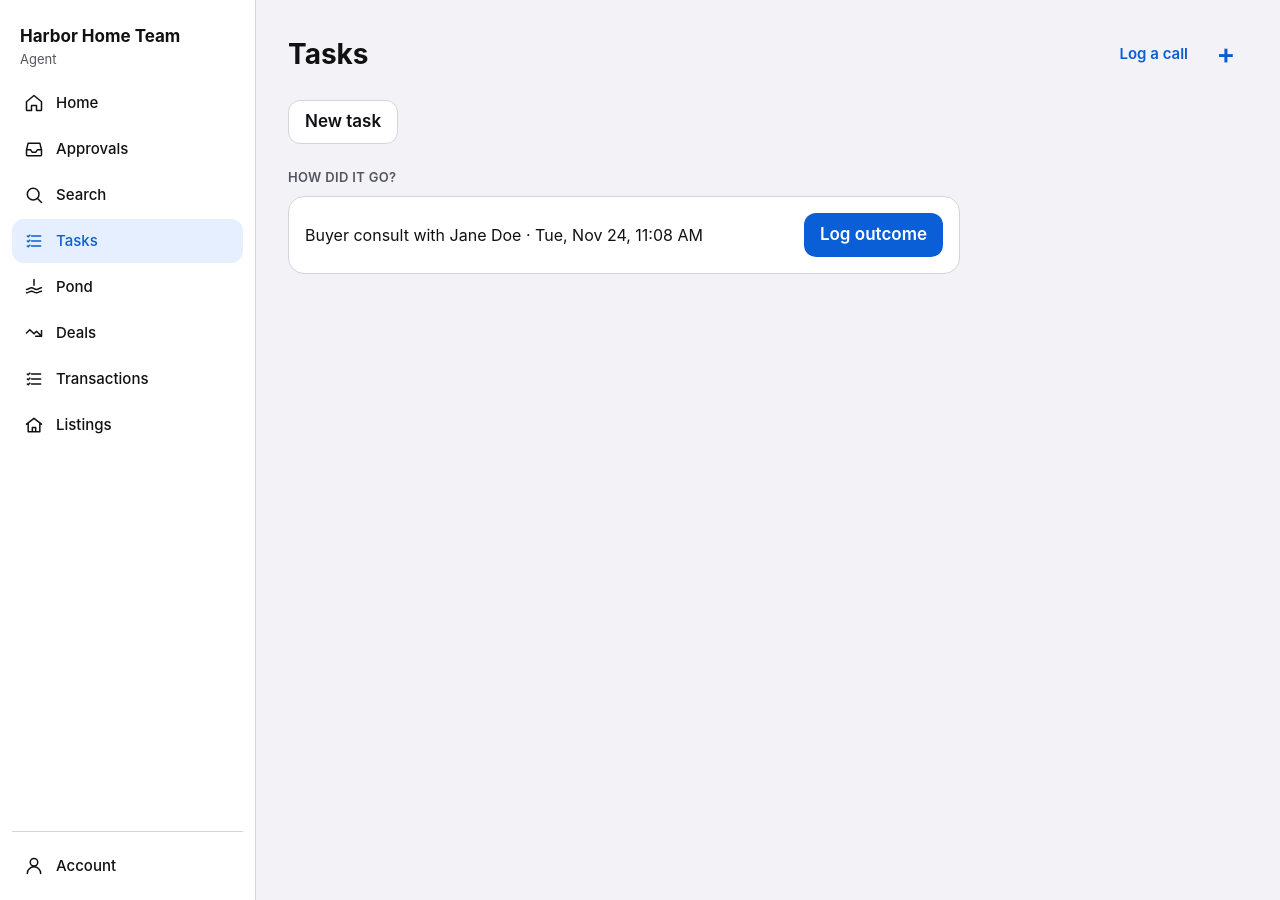
Tasks › an appointment awaiting its outcome is logged in two taps from Tasks (open, then the outcome chip)
Click the button "Log outcome".
click(873, 234)  # box [804,212,943,256]
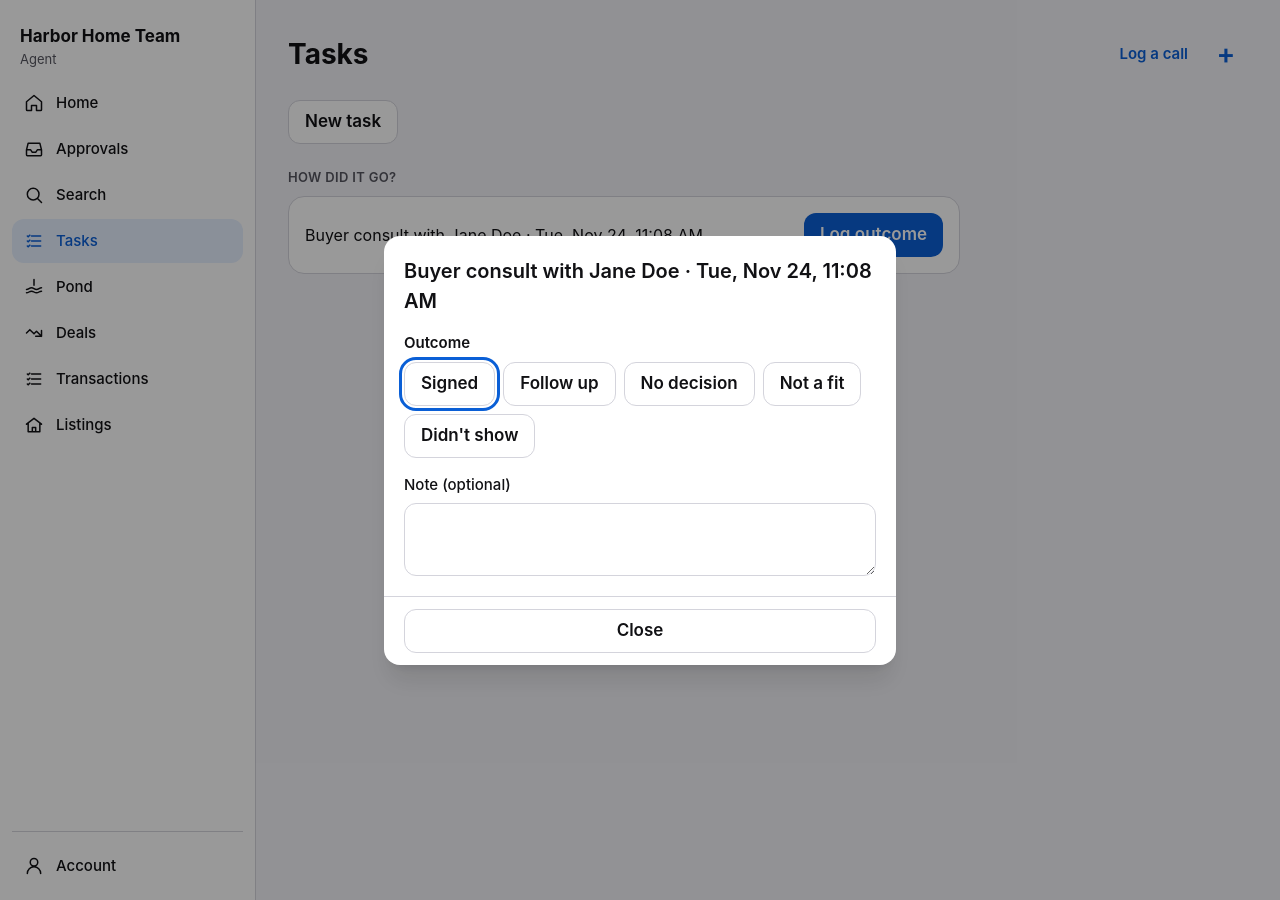
Click the button "Follow up".
click(559, 384)  # box [503,362,616,406]
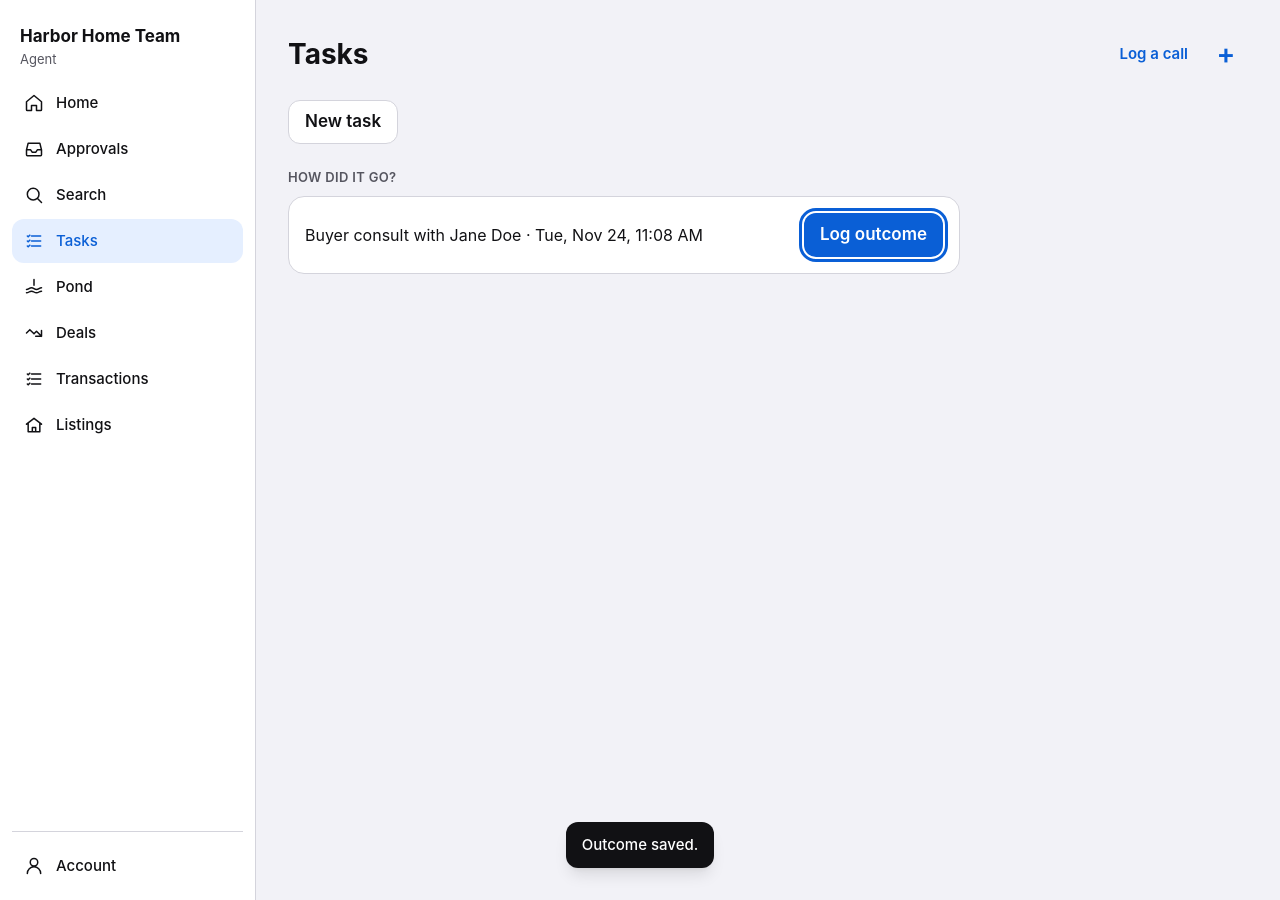
Result: the text "Outcome saved." is shown at [566,822,714,868]
